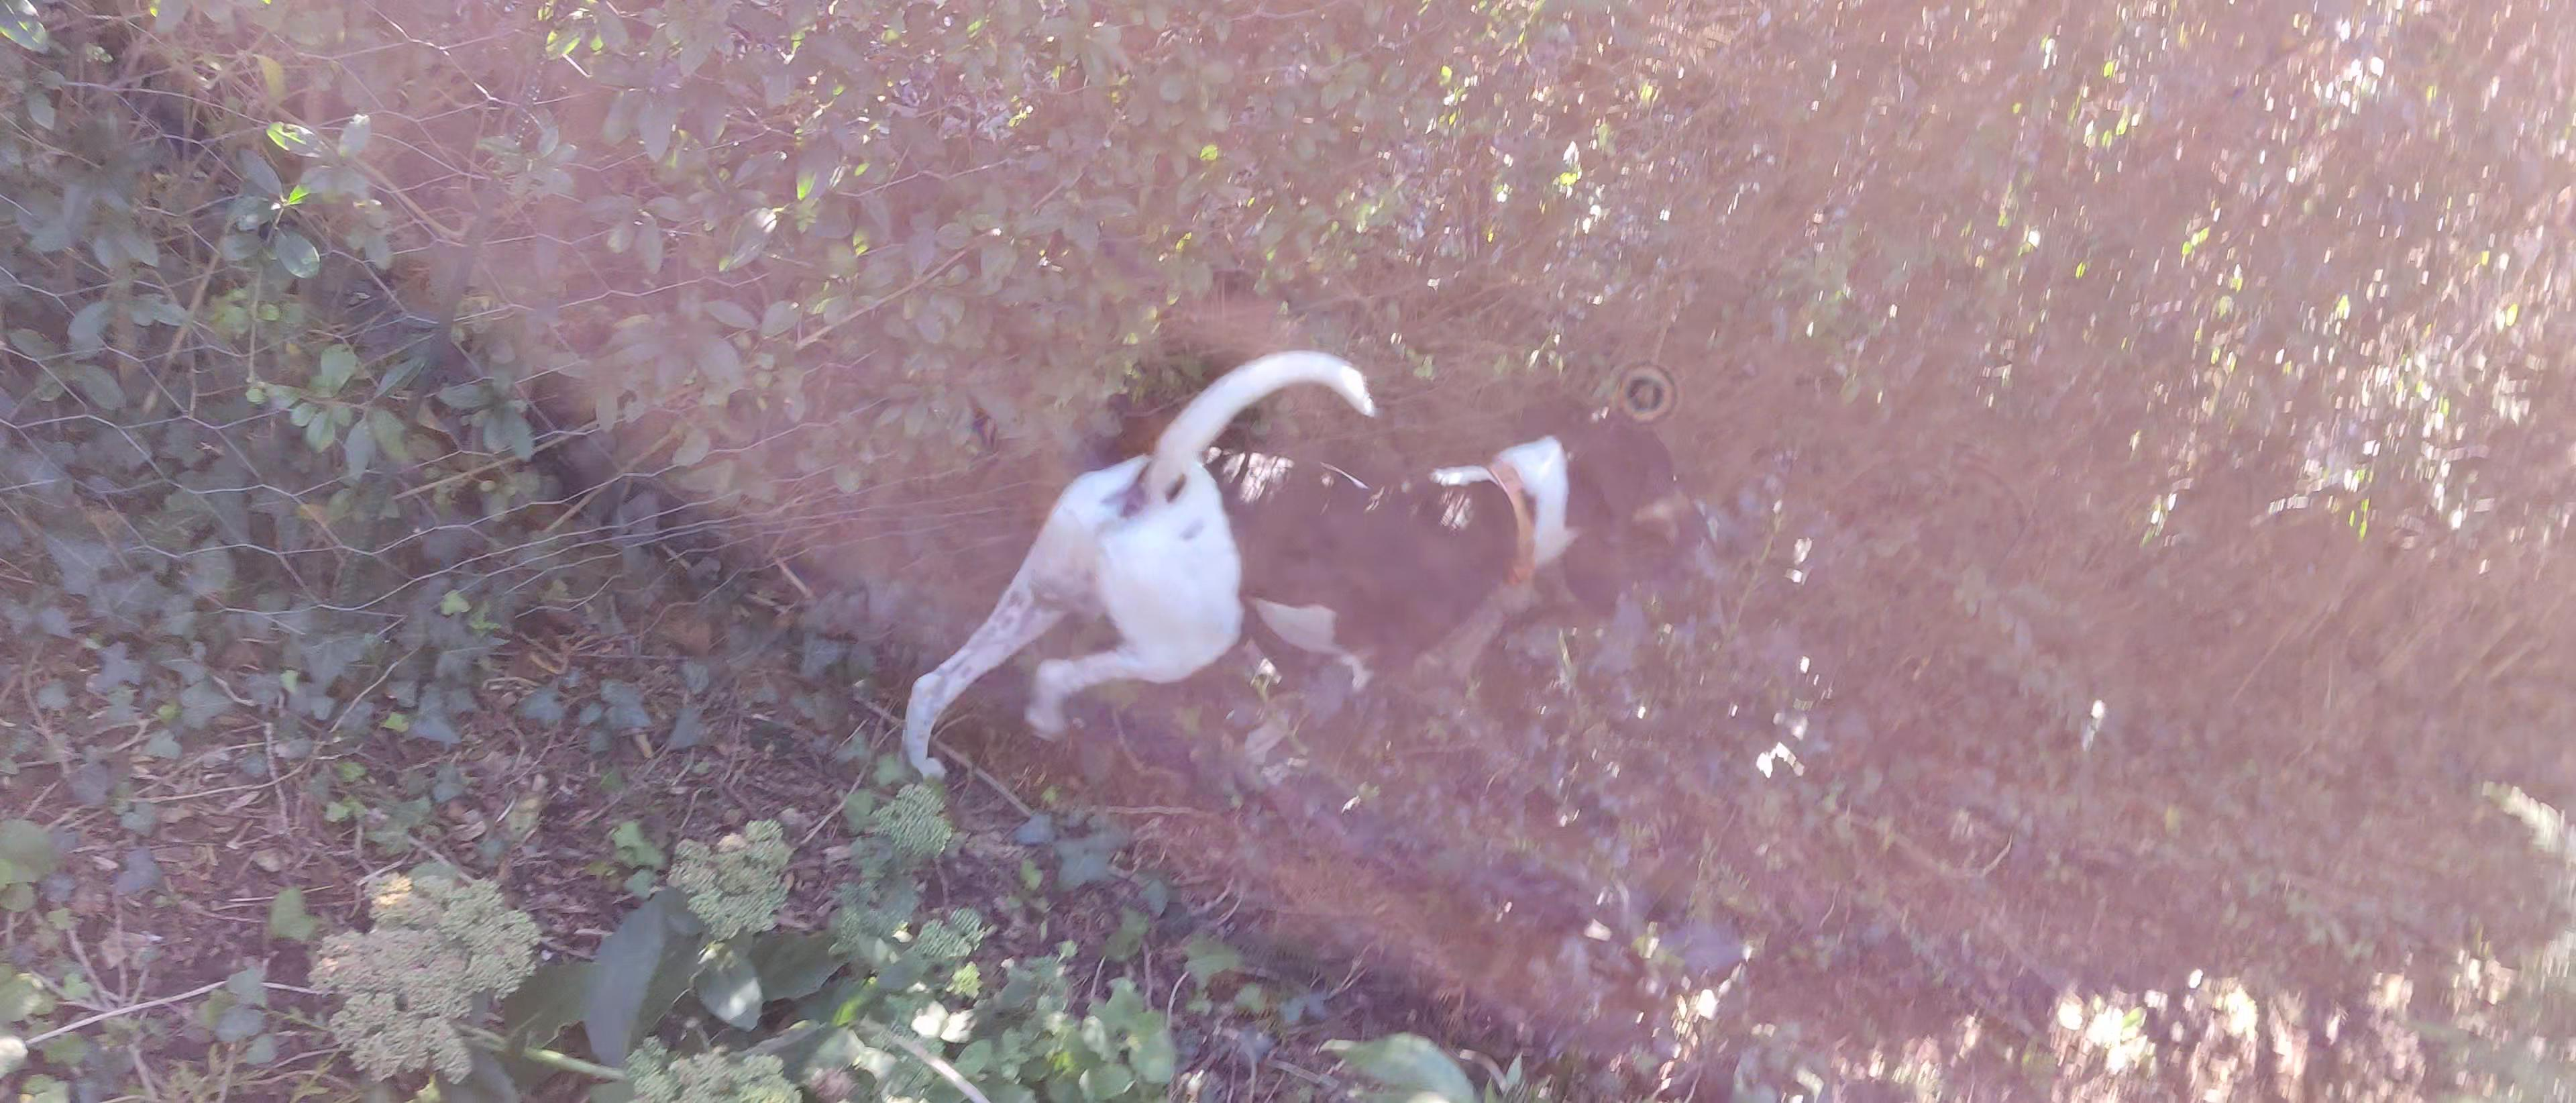Dog: (887, 347, 1705, 787)
